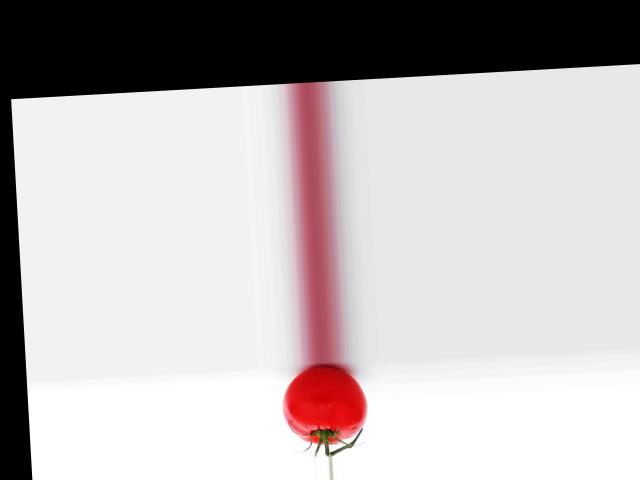tomato: (279, 363, 367, 446)
